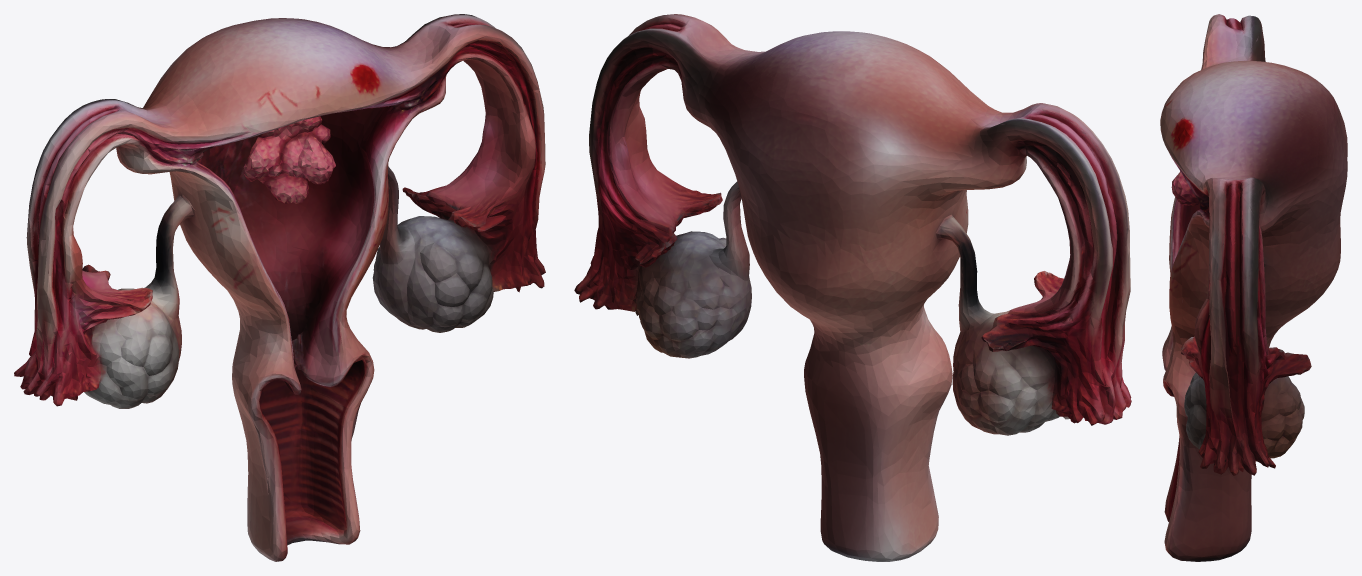
The model's file is uterus.glb.
3 views of the same model, side by side, from view 1: azimuth 30°, elevation 25°; view 2: azimuth 150°, elevation 25°; view 3: azimuth 270°, elevation 25° (orthographic). The views are drawn at different scales.
Visible parts, largest first — view 1: geometry_0_Material_0_0; view 2: geometry_0_Material_0_0; view 3: geometry_0_Material_0_0.
Boxes of the visible parts, <box> form: geometry_0_Material_0_0: <box>14,14,545,561</box>; geometry_0_Material_0_0: <box>574,14,1131,561</box>; geometry_0_Material_0_0: <box>1160,14,1347,561</box>.
Bounding box in the file's own units: 0.9983 × 0.9288 × 0.3343.
1 material, 1 textured.
